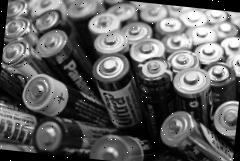electronic: (74, 43, 158, 138)
